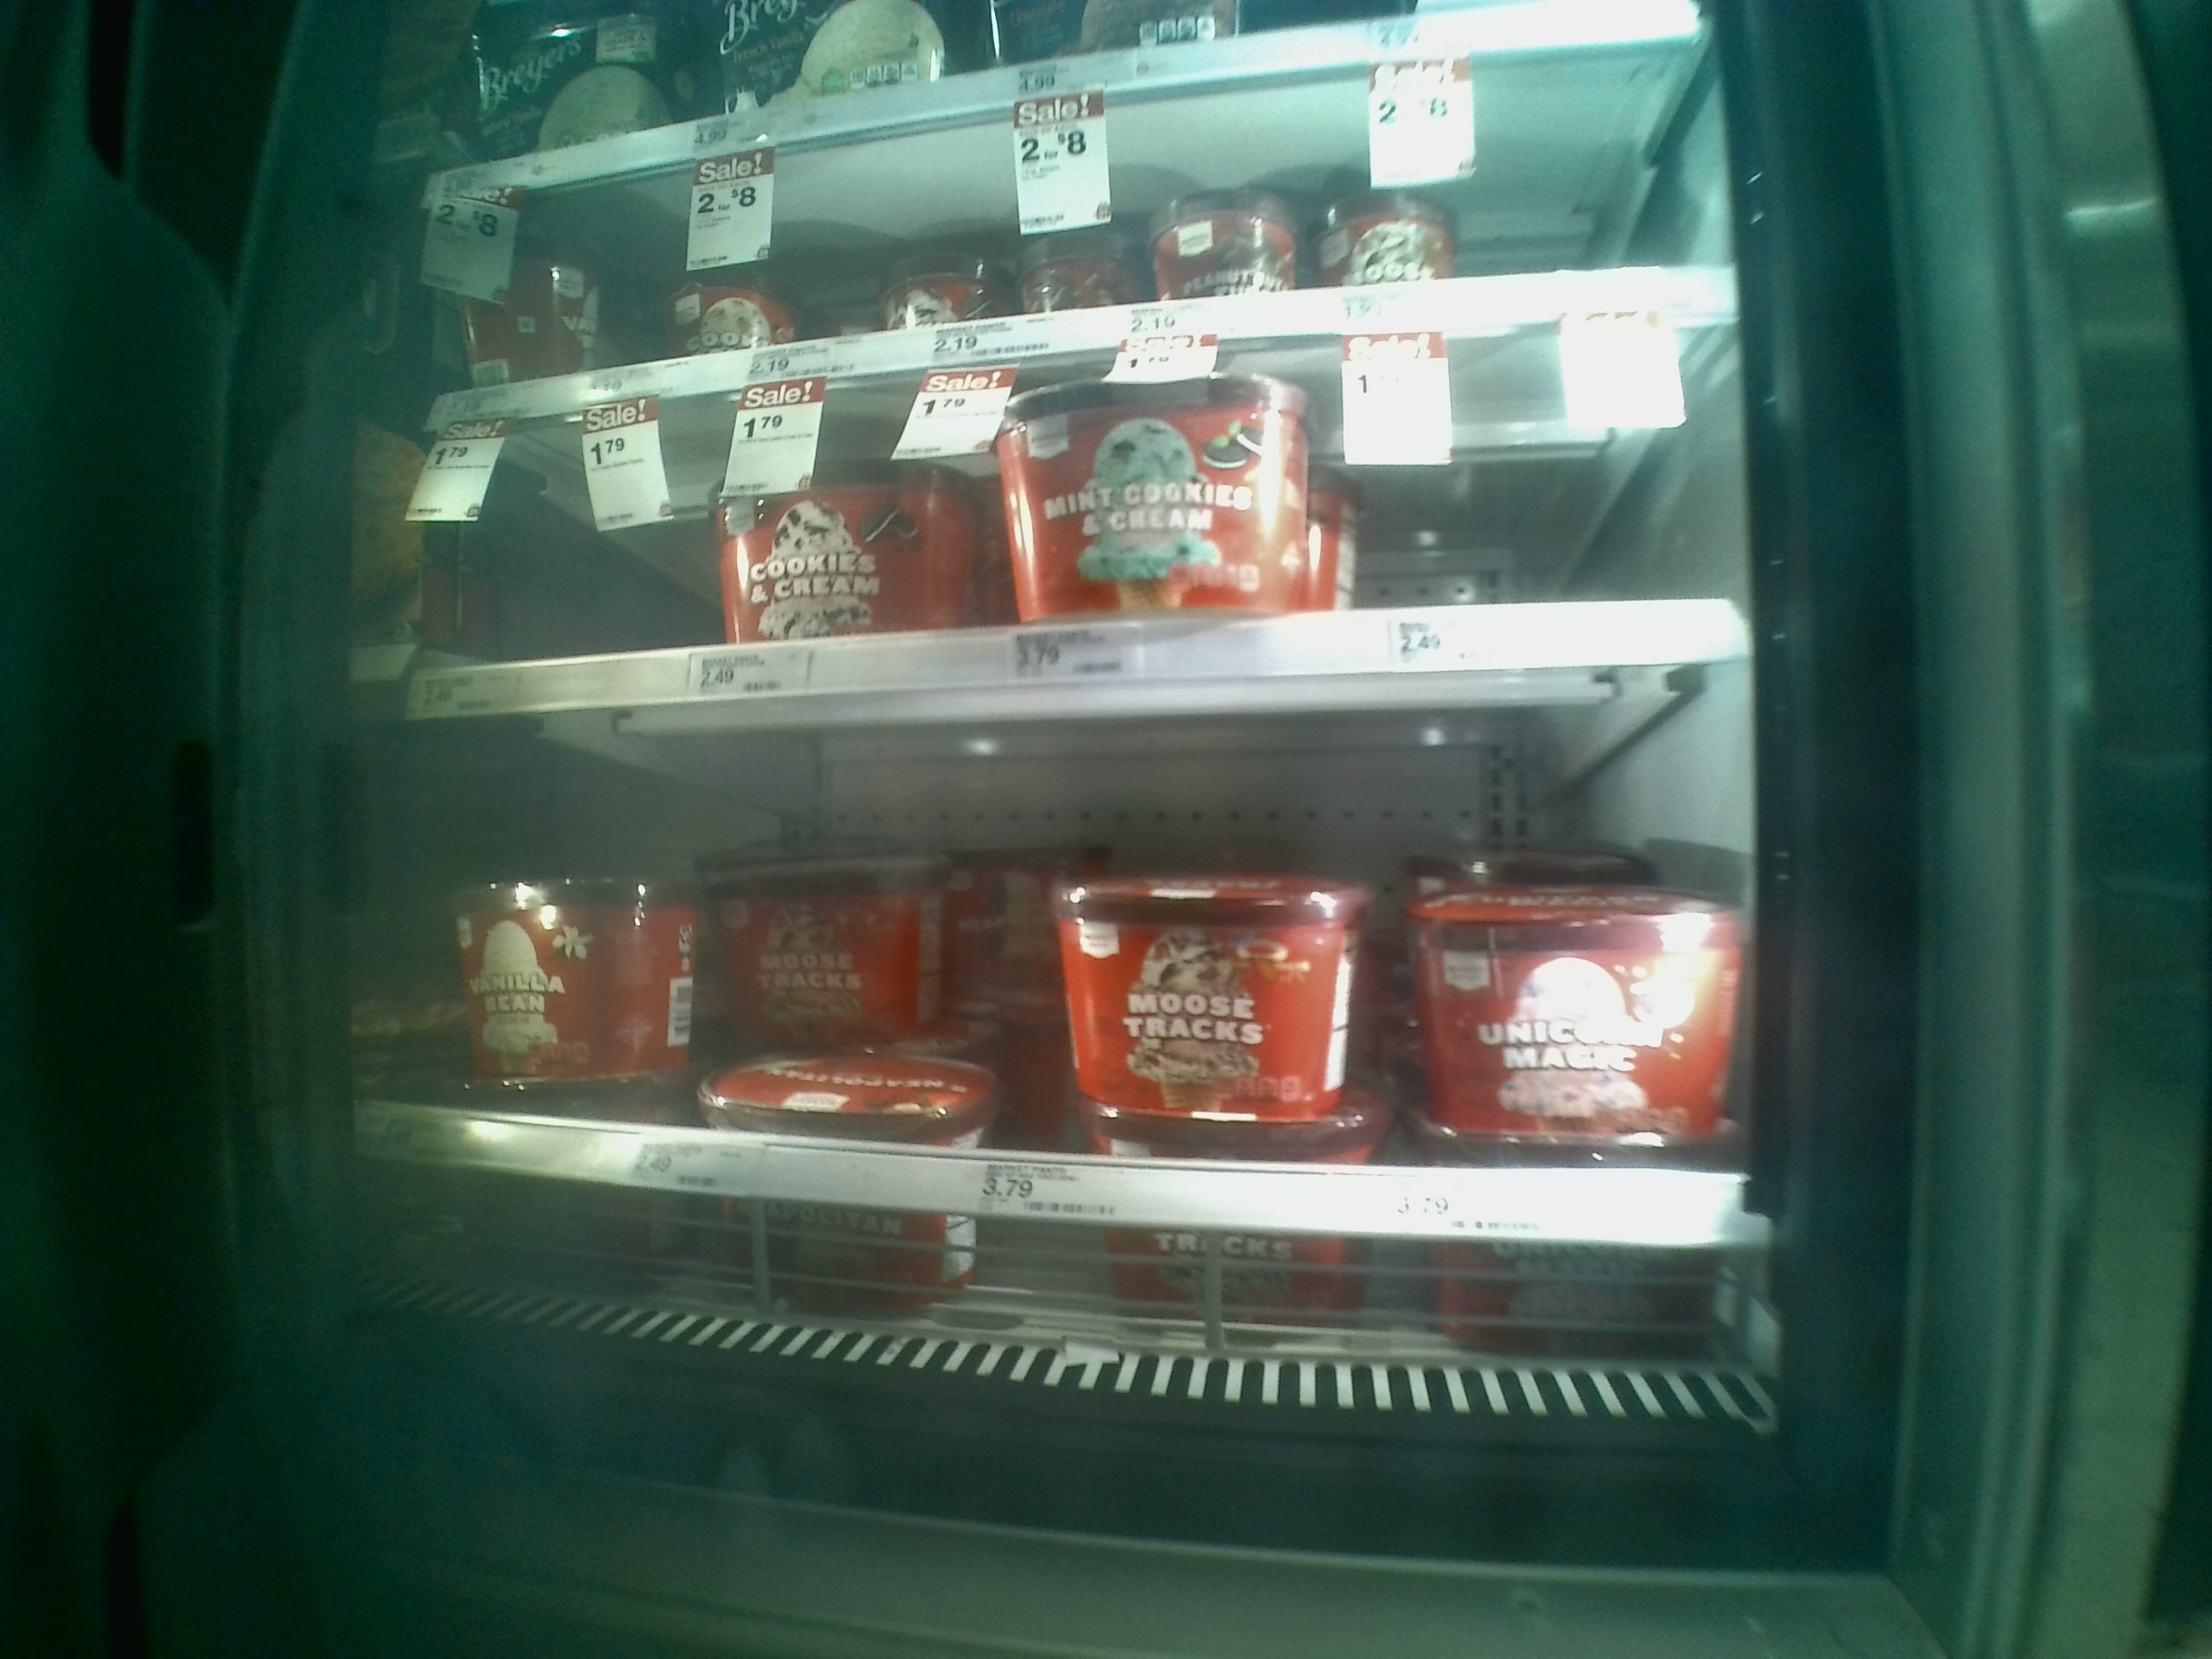shelf: (376, 708, 1770, 1345), (415, 328, 1770, 702), (439, 49, 1747, 416)
